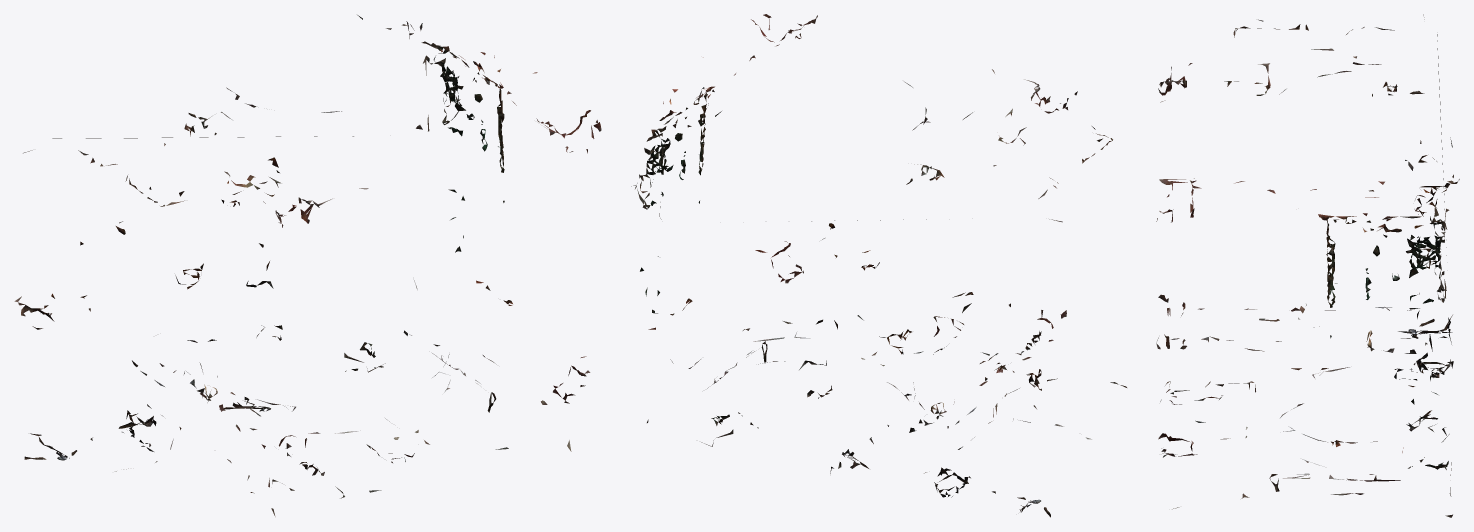
3 views of the same model, side by side, from view 1: azimuth 30°, elevation 25°; view 2: azimuth 150°, elevation 25°; view 3: azimuth 270°, elevation 25° (orthographic). The views are drawn at different scales.
Bounding box in the file's own units: 12.47 × 9.59 × 7.45.
1 material, 1 textured.
